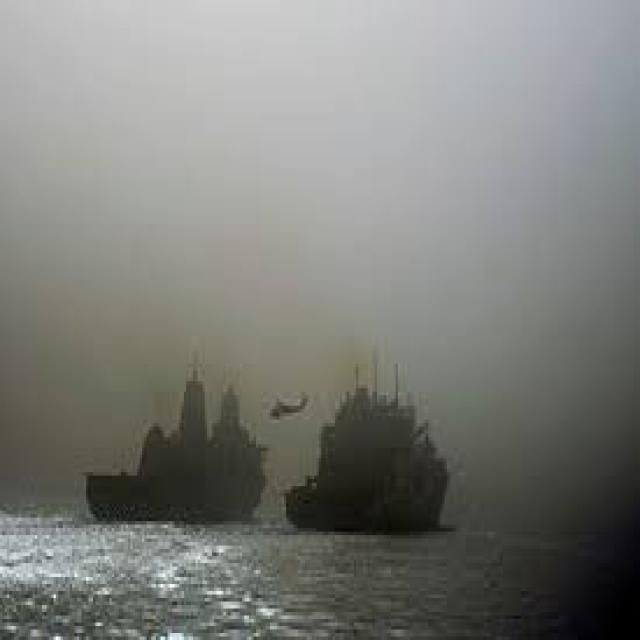navalvessels: (70, 354, 263, 532), (283, 350, 460, 542)
